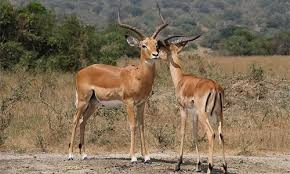impala: (65, 3, 166, 165), (154, 28, 237, 173)
